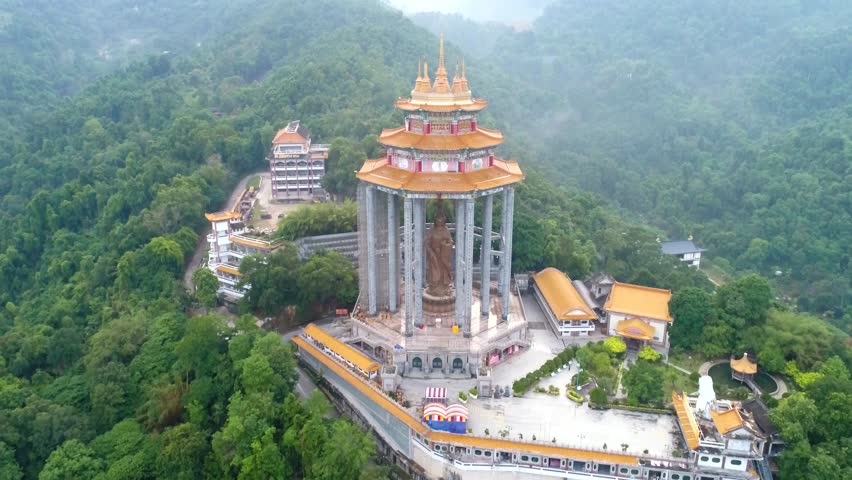Buddhist Temple: (341, 50, 519, 346)
